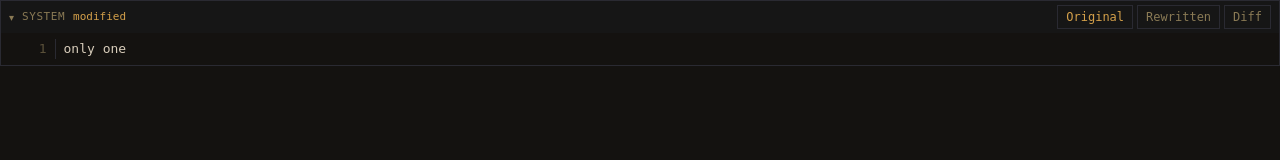
it: SystemMessage › shows Block count changed notice in diff mode when block counts differ
This screenshot has width=1280, height=160.
Click the button "Diff" at x=1248, y=17, box [1224,5,1271,29]
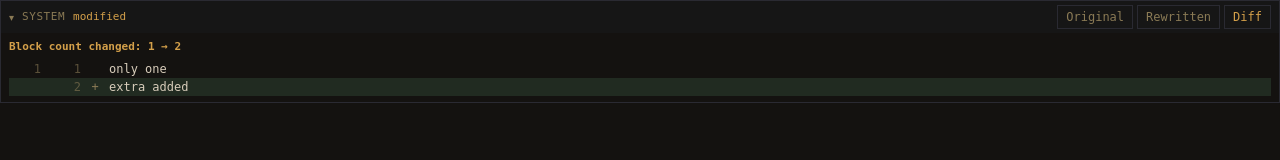
Now the text "Block count changed: 1 → 2" is shown, box [9,40,181,53]
